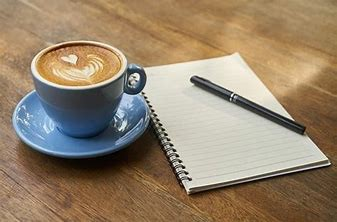pen: (188, 74, 304, 131)
